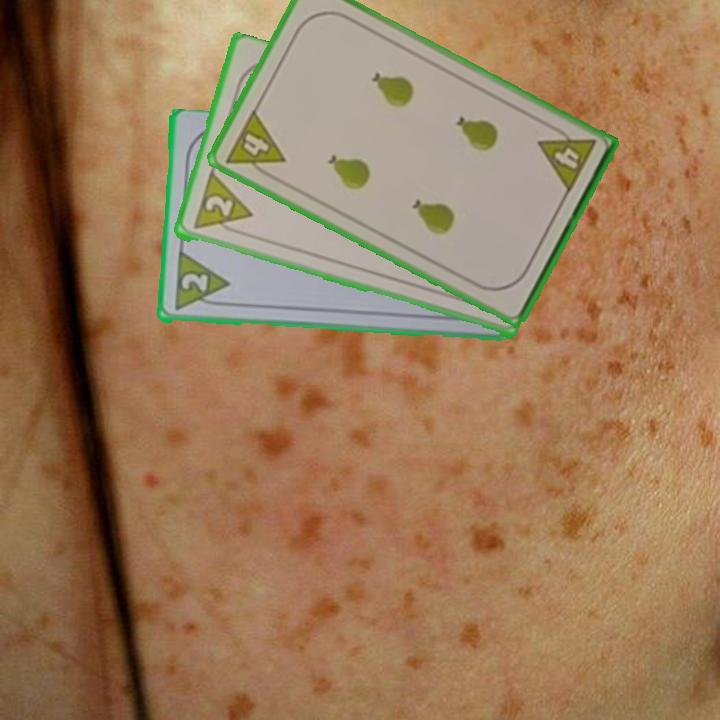2p: (189, 171, 255, 237), (177, 270, 211, 295)
4p: (221, 106, 288, 184), (534, 120, 599, 196)
